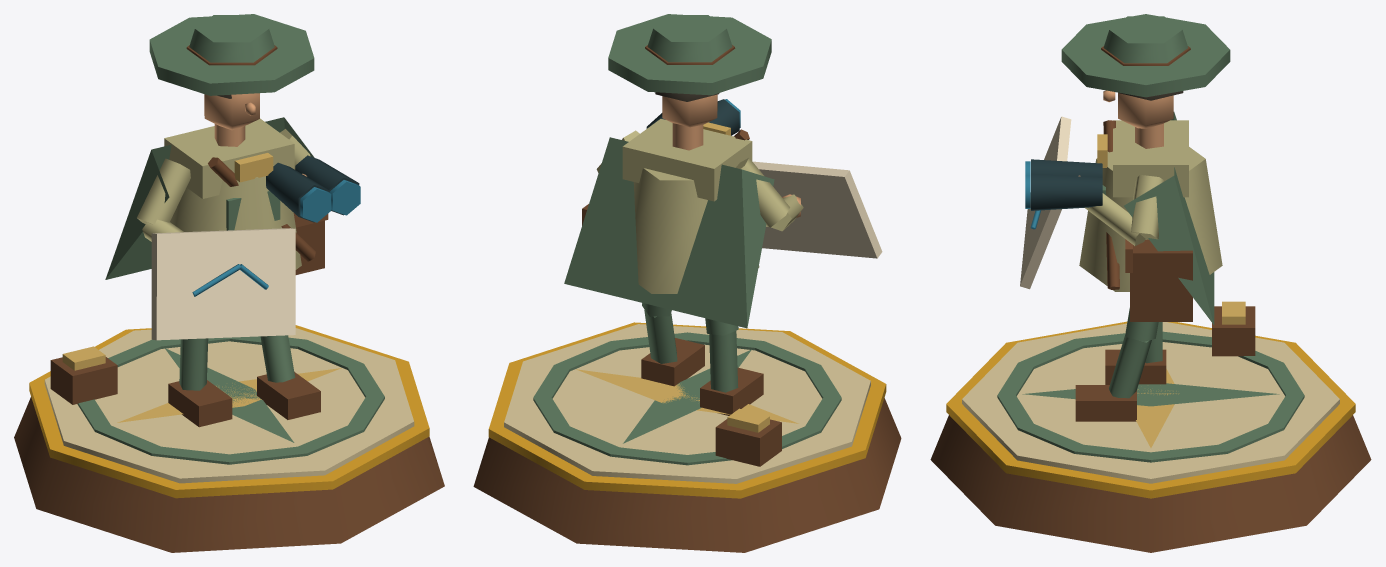
The model's file is scout.glb.
3 views of the same model, side by side, from view 1: azimuth 30°, elevation 25°; view 2: azimuth 150°, elevation 25°; view 3: azimuth 270°, elevation 25° (orthographic).
Visible parts, largest first — view 1: foundation_sand, foundation_leather, map_cream, scout_hat_olive, foundation_ochre, compass_olive, scout_shoulders_khaki, scout_torso_khaki, scout_boots_leather, travelling_mantle_olive, scout_arms_khaki, scout_legs_olive (+12 smaller); view 2: foundation_sand, foundation_leather, travelling_mantle_olive, scout_hat_olive, foundation_ochre, compass_olive, map_cream, scout_torso_khaki, scout_shoulders_khaki, scout_boots_leather, scout_legs_olive, travel_case_leather (+6 smaller); view 3: foundation_sand, foundation_leather, scout_hat_olive, compass_olive, foundation_ochre, scout_torso_khaki, satchel_leather, scout_shoulders_khaki, travelling_mantle_olive, binoculars_dark, scout_boots_leather, scout_legs_olive (+8 smaller).
Boxes of the visible parts, x1,y1,x2,y2 form: foundation_sand: [44, 328, 414, 483]; foundation_leather: [14, 397, 444, 552]; map_cream: [151, 228, 295, 340]; scout_hat_olive: [149, 14, 314, 95]; foundation_ochre: [29, 325, 429, 498]; compass_olive: [77, 336, 384, 464]; scout_shoulders_khaki: [164, 118, 294, 198]; scout_torso_khaki: [170, 165, 301, 269]; scout_boots_leather: [168, 372, 320, 427]; travelling_mantle_olive: [105, 117, 314, 279]; scout_arms_khaki: [137, 129, 310, 241]; scout_legs_olive: [179, 335, 295, 390]; foundation_sand: [504, 324, 870, 483]; foundation_leather: [473, 398, 901, 552]; travelling_mantle_olive: [564, 137, 774, 328]; scout_hat_olive: [608, 14, 771, 95]; foundation_ochre: [488, 322, 886, 498]; compass_olive: [533, 332, 841, 465]; map_cream: [753, 161, 882, 258]; scout_torso_khaki: [633, 168, 759, 293]; scout_shoulders_khaki: [622, 119, 752, 201]; scout_boots_leather: [641, 338, 763, 415]; scout_legs_olive: [642, 303, 738, 392]; travel_case_leather: [715, 419, 781, 466]; foundation_sand: [962, 322, 1339, 483]; foundation_leather: [930, 415, 1371, 552]; scout_hat_olive: [1061, 14, 1230, 97]; compass_olive: [997, 331, 1304, 462]; foundation_ochre: [946, 321, 1355, 498]; scout_torso_khaki: [1079, 147, 1222, 291]; satchel_leather: [1130, 239, 1192, 321]; scout_shoulders_khaki: [1113, 120, 1188, 197]; travelling_mantle_olive: [1124, 112, 1214, 324]; binoculars_dark: [1031, 159, 1102, 210]; scout_boots_leather: [1075, 349, 1166, 421]; scout_legs_olive: [1109, 308, 1162, 398].
Size of the model in its own units: 1 by 1.08 by 1.
